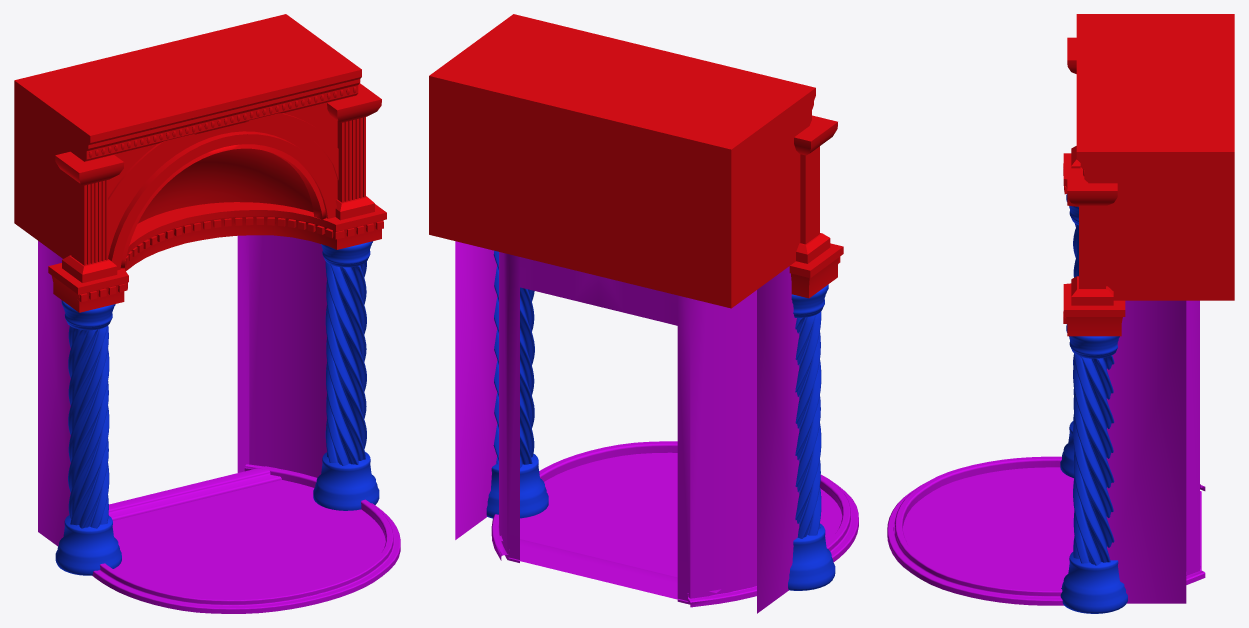
File: SM_midwall.fbx
3 views of the same model, side by side, from view 1: azimuth 30°, elevation 25°; view 2: azimuth 150°, elevation 25°; view 3: azimuth 270°, elevation 25° (orthographic). The views are drawn at different scales.
Visible parts, largest first — view 1: midbody_low, floor_low, midwall_low, body_low, toppillor_low, acc01_low, under_low, midf_low, topACC_low, dol_low, top_low; view 2: midbody_low, midwall_low, floor_low, body_low, under_low, toppillor_low, acc01_low, midf_low, top_low; view 3: midbody_low, midwall_low, floor_low, body_low, toppillor_low, under_low, acc01_low, top_low.
Part boxes in pixels (x1,y1,x2,y2): midbody_low: [14, 14, 361, 270]; floor_low: [92, 464, 400, 613]; midwall_low: [38, 235, 326, 546]; body_low: [68, 261, 366, 528]; toppillor_low: [55, 83, 381, 282]; acc01_low: [48, 202, 386, 312]; under_low: [55, 452, 379, 575]; midf_low: [108, 466, 281, 520]; topACC_low: [89, 87, 356, 268]; dol_low: [77, 217, 383, 302]; top_low: [61, 241, 372, 330]; midbody_low: [429, 14, 815, 308]; midwall_low: [455, 241, 799, 613]; floor_low: [491, 441, 858, 607]; body_low: [493, 250, 821, 538]; under_low: [486, 453, 835, 590]; toppillor_low: [794, 115, 837, 263]; acc01_low: [789, 243, 843, 298]; midf_low: [496, 535, 720, 592]; top_low: [791, 284, 828, 317]; midbody_low: [1076, 14, 1234, 300]; midwall_low: [1106, 300, 1199, 603]; floor_low: [887, 456, 1205, 605]; body_low: [1073, 223, 1114, 565]; toppillor_low: [1067, 37, 1117, 305]; under_low: [1060, 421, 1127, 613]; acc01_low: [1063, 153, 1125, 336]; top_low: [1066, 194, 1119, 358].
Size of the model in its own units: 978 by 1289 by 899.
